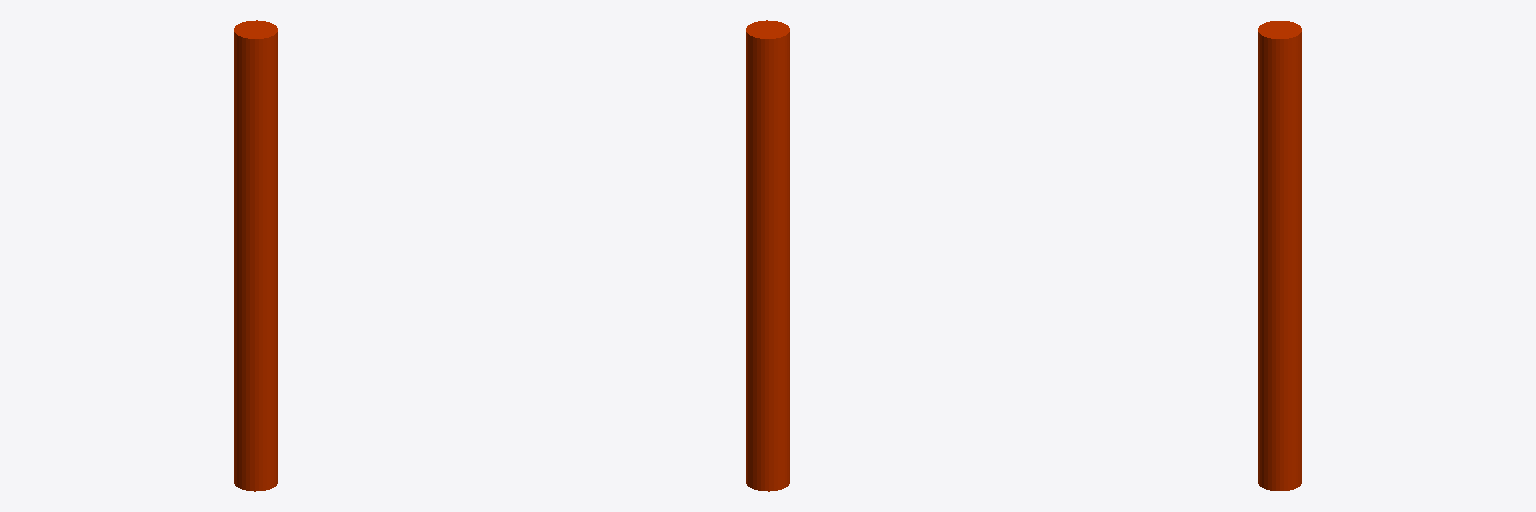
URDF robot description (PIPPA_oneleg_leg):
<?xml version="1.0"?>
<robot name="PIPPA_oneleg_leg">

<!-- Link Gamba -->
  <link name="Gamba_Link">
    <visual>
      <origin rpy="0 0 0" xyz="0 0 0"/> <!-- Gamba alta 0.675, metà altezza = 0.3375 -->
      <geometry>
        <cylinder radius="0.03" length="0.675"/> <!-- Diametro 0.06 m -->
      </geometry>
      <material name="Material.001"/>
    </visual>
    <collision>
      <origin rpy="0 0 0" xyz="0 0 0"/>
      <geometry>
        <cylinder radius="0.03" length="0.675"/>
      </geometry>
    </collision>
    <inertial>
      <origin rpy="0 0 0" xyz="0 0 0"/>
      <mass value="1.6145"/>
      <inertia ixx="0.001" ixy="0" ixz="0" iyy="0.001" iyz="0" izz="0.001"/>
    </inertial>
  </link>

  <!-- Materiali -->
  <material name="Material.001">
    <color rgba="0.800 0.243 0.000 1.000"/>
  </material>

  </robot>

--- Render facts (derived) ---
3 views of the same robot in one strip: view 1: azimuth 30°, elevation 25°; view 2: azimuth 150°, elevation 25°; view 3: azimuth 270°, elevation 25° (orthographic).
Robot: PIPPA_oneleg_leg — 1 links, 0 joints (none); root link Gamba_Link; default pose: all joints at 0.
Links seen in each view (by area): view 1: Gamba_Link; view 2: Gamba_Link; view 3: Gamba_Link.
Boxes of the visible links, x1,y1,x2,y2 form: Gamba_Link: (234,20,277,491); Gamba_Link: (746,20,789,491); Gamba_Link: (1258,21,1301,490).
Size in the robot's own frame: 0.06 by 0.06 by 0.675 metres.
Geometry: primitives only (box / cylinder / sphere), no mesh files.
